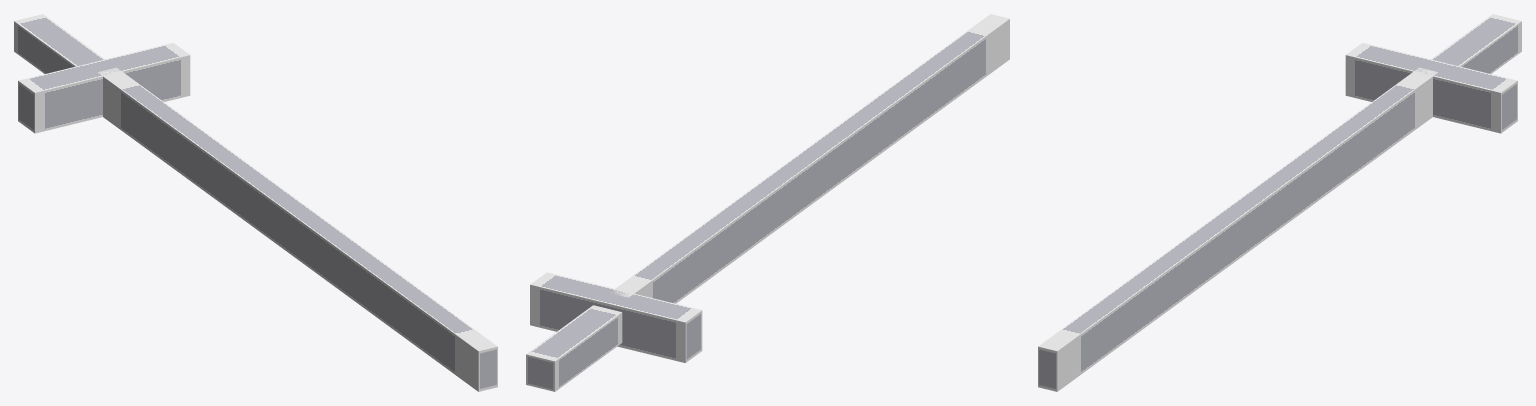
The model's file is sword.glb.
The picture shows the model from 3 angles, left to right: view 1: azimuth 30°, elevation 25°; view 2: azimuth 150°, elevation 25°; view 3: azimuth 330°, elevation 25°; orthographic projection.
Visible parts, largest first — view 1: sword; view 2: sword; view 3: sword.
Boxes of the visible parts, x1=… form: sword: x1=14, y1=14, x2=497, y2=391; sword: x1=526, y1=14, x2=1009, y2=391; sword: x1=1038, y1=14, x2=1521, y2=391.
Size of the model in its own units: 0.16 by 0.04 by 0.82.
Materials: 1 (1 with a texture image).
